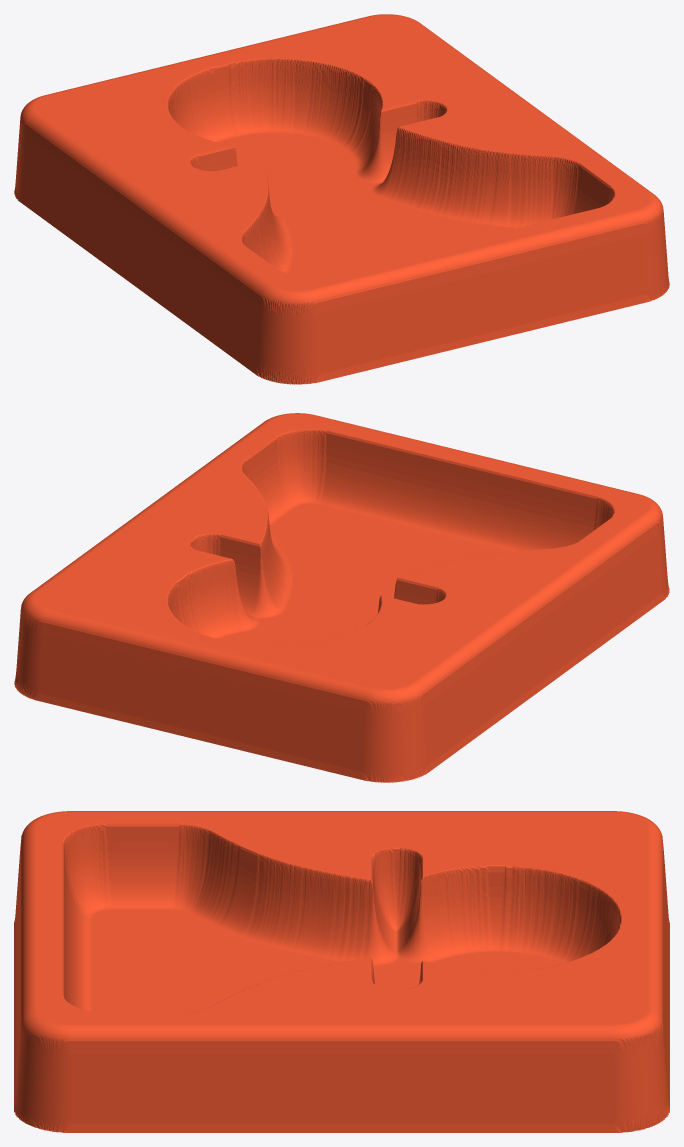
File: mold.glb
The picture shows the model from 3 angles, top to bottom: view 1: azimuth 30°, elevation 25°; view 2: azimuth 150°, elevation 25°; view 3: azimuth 270°, elevation 25°; orthographic projection. The views are drawn at different scales.
Visible parts, largest first — view 1: geometry_0; view 2: geometry_0; view 3: geometry_0.
Boxes of the visible parts, bbox=[...] form: geometry_0: bbox=[14, 14, 669, 384]; geometry_0: bbox=[14, 413, 669, 782]; geometry_0: bbox=[14, 811, 669, 1132].
Size of the model in its own units: 0.0874 by 0.0175 by 0.105.
